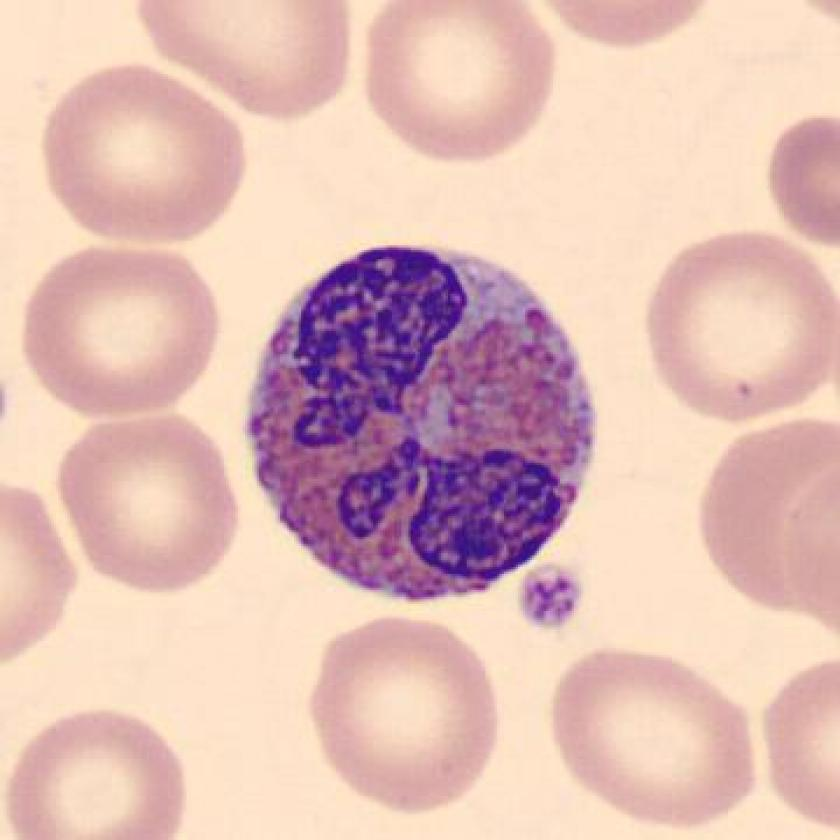eosinophil: (239, 228, 612, 617)
